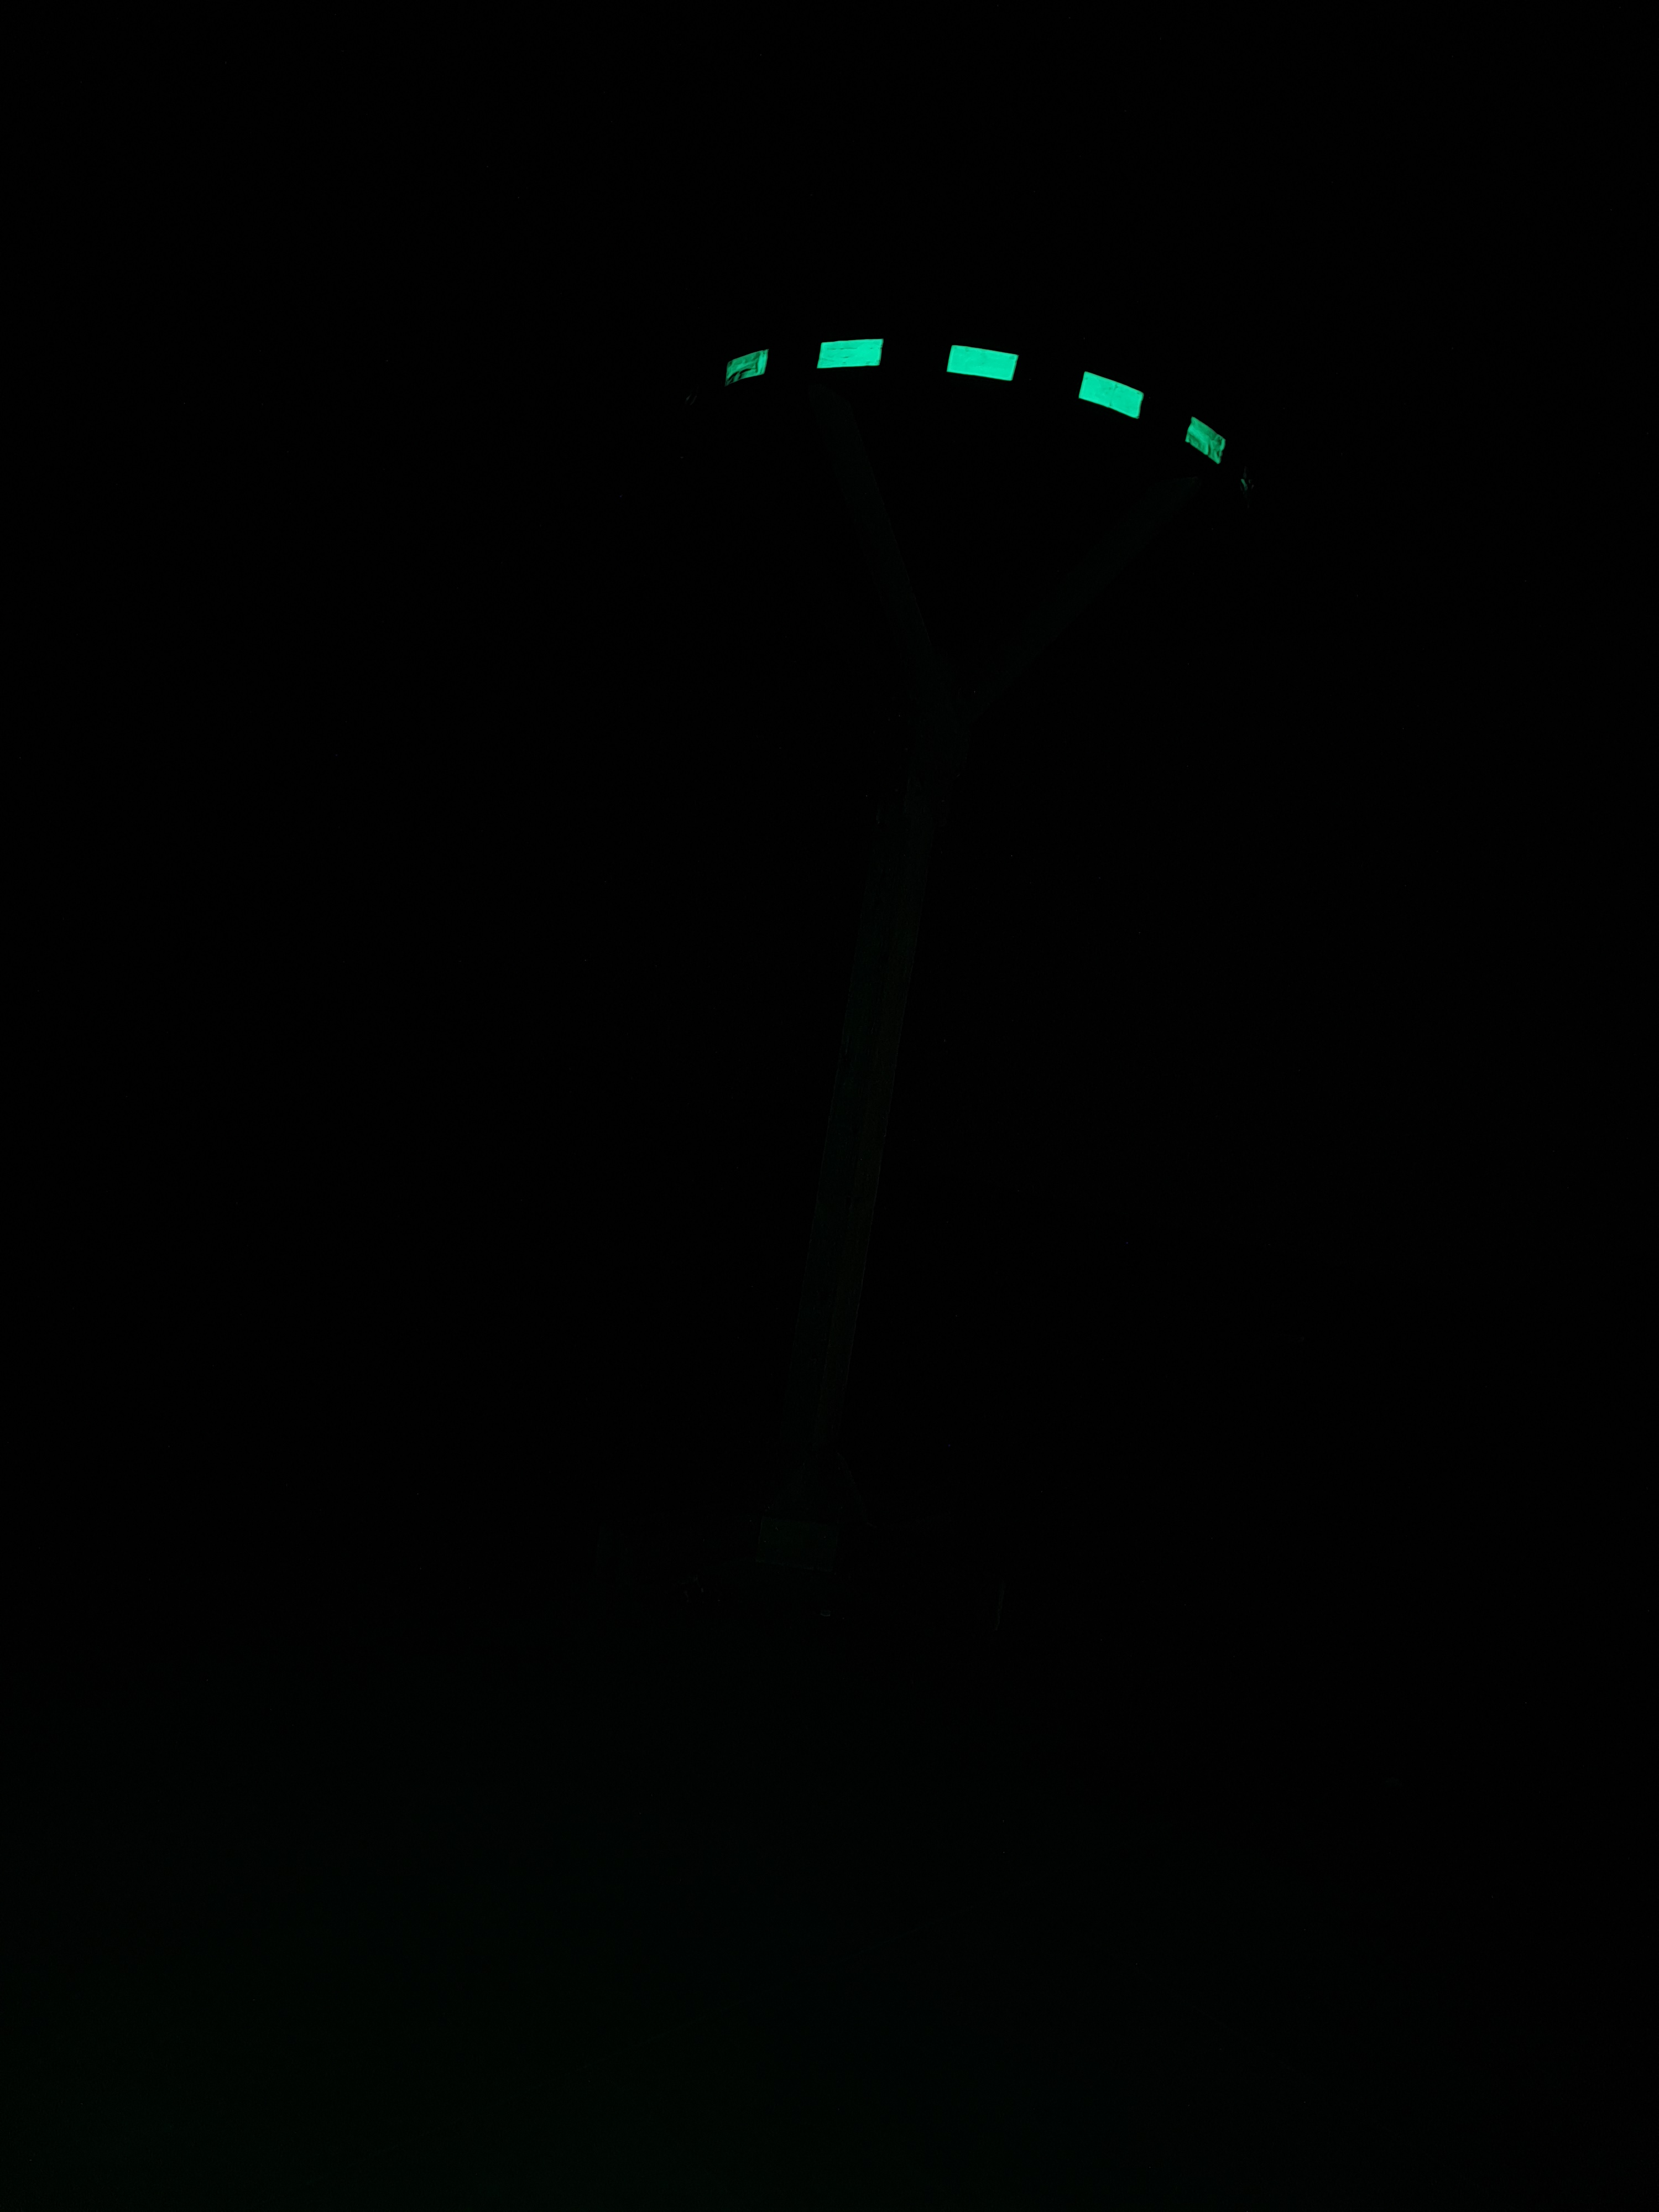hoop: (720, 329, 1227, 470)
